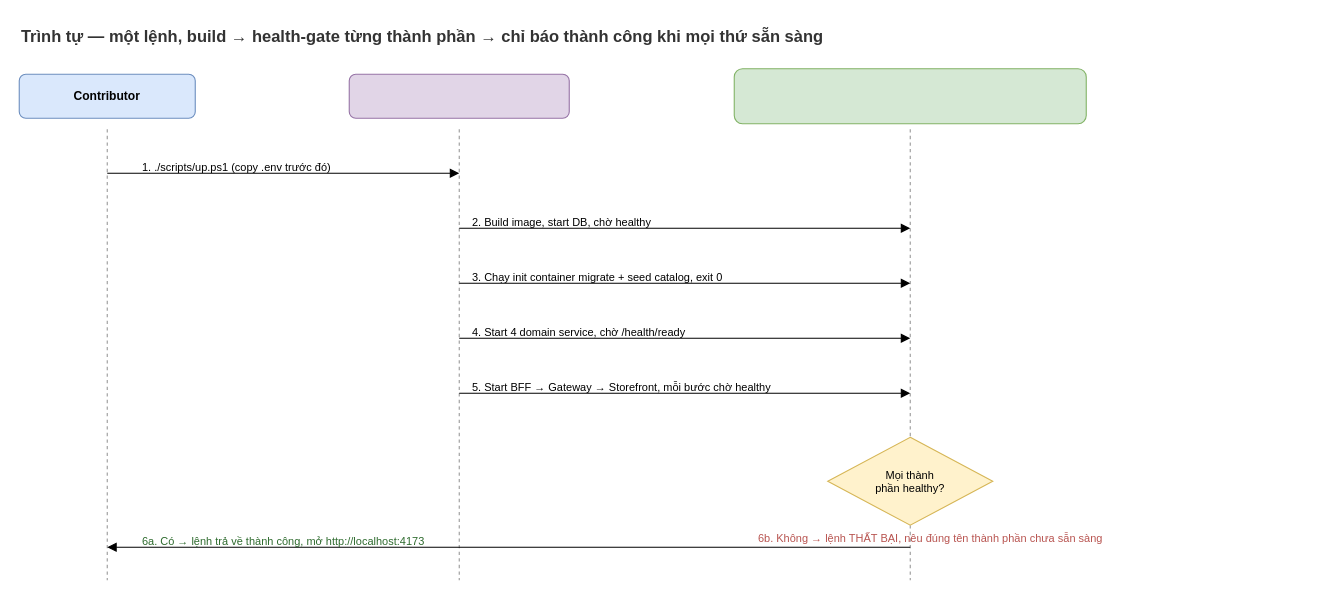
This 1326x601 diagram has some shape labels left out. The box of each missing label's shape, as (x1, y1, x2, y2) in pixels:
docker compose: (348, 73, 569, 118)
Mọi container (DB, migrate, service, BFF, gateway, storefront): (733, 68, 1086, 124)
